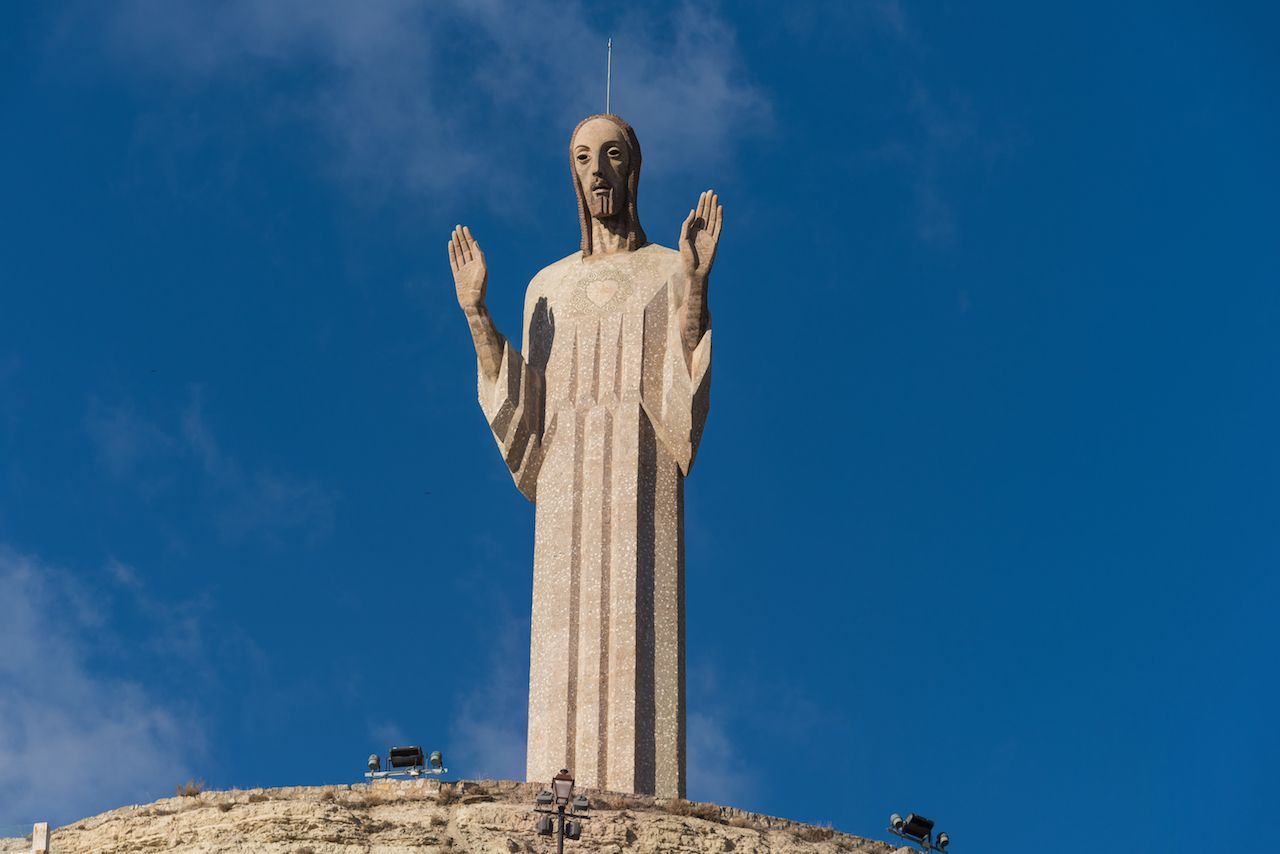person-like: (436, 102, 734, 806)
